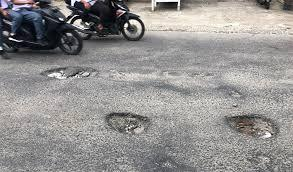Pothole: (226, 114, 279, 139), (104, 110, 149, 135), (39, 67, 97, 79)
